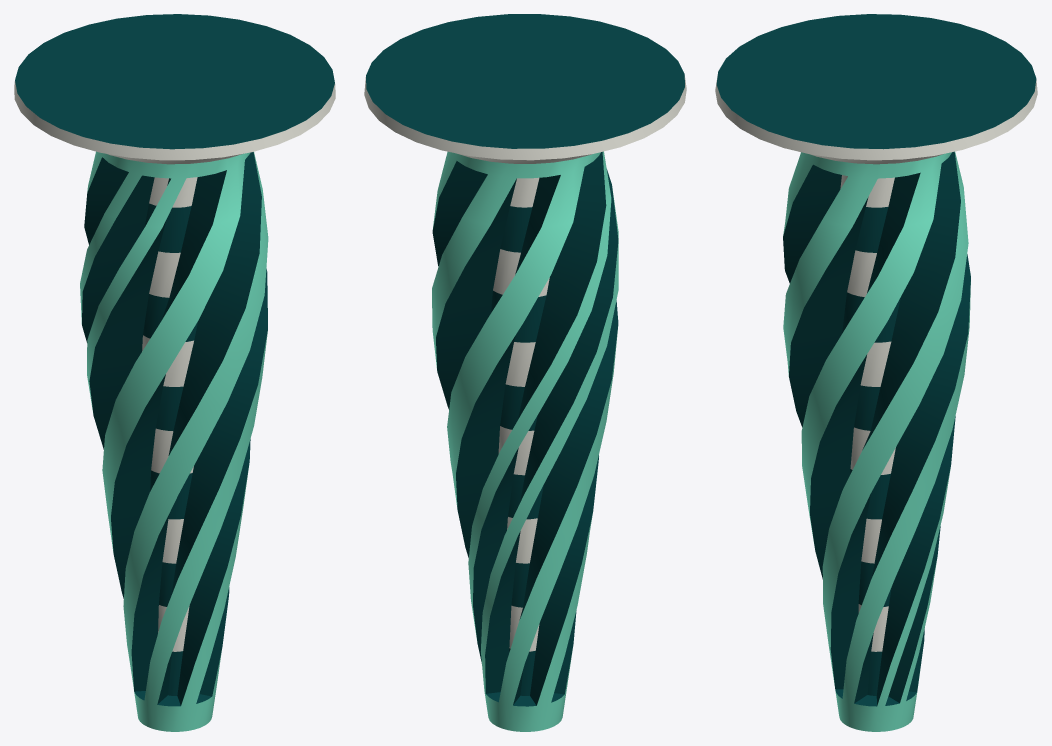
The model's file is Buildings_Buidling_4.fbx.
The picture shows the model from 3 angles, left to right: view 1: azimuth 30°, elevation 25°; view 2: azimuth 150°, elevation 25°; view 3: azimuth 270°, elevation 25°; orthographic projection.
Visible parts, largest first — view 1: Buidling_4; view 2: Buidling_4; view 3: Buidling_4.
Boxes of the visible parts, x1,y1,x2,y2 form: Buidling_4: (14, 14, 335, 731); Buidling_4: (364, 14, 686, 731); Buidling_4: (715, 14, 1037, 731).
Bounding box in the file's own units: 201 × 436 × 201.
